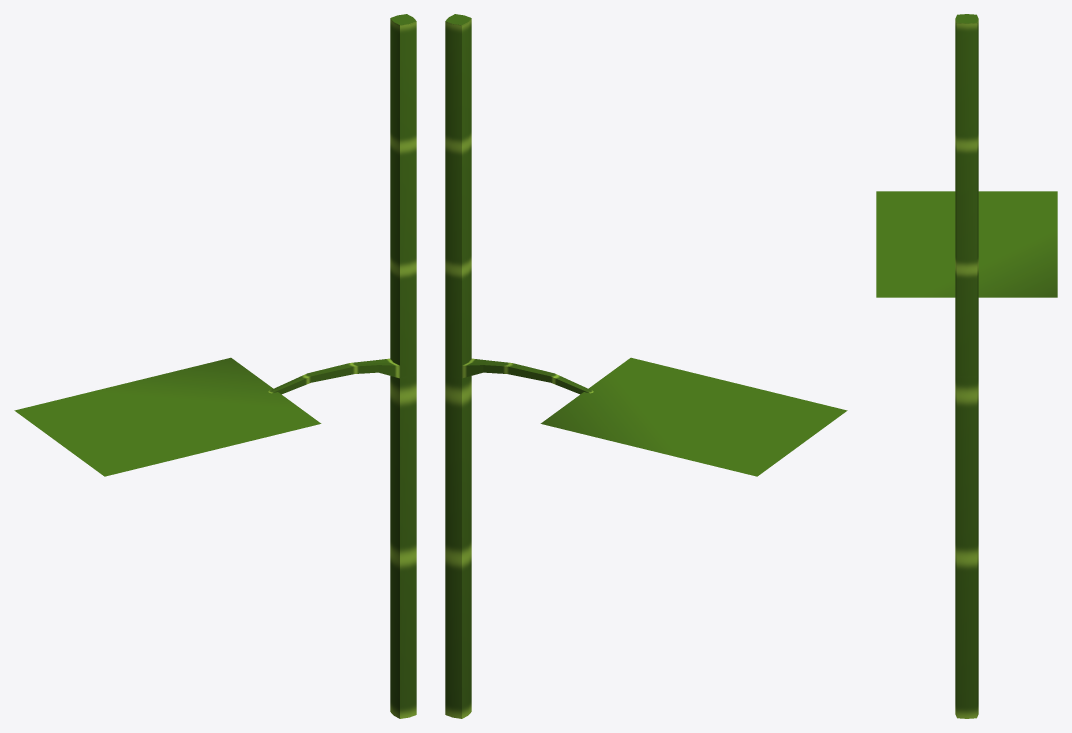
3 views of the same model, side by side, from view 1: azimuth 30°, elevation 25°; view 2: azimuth 150°, elevation 25°; view 3: azimuth 270°, elevation 25° (orthographic).
Parts seen in each view (by area): view 1: Bamboo2, BambooLeaves; view 2: Bamboo2, BambooLeaves; view 3: BambooLeaves, Bamboo2.
Boxes of the visible parts, x1,y1,x2,y2 form: Bamboo2: (268,14,416,718); BambooLeaves: (14,357,321,476); Bamboo2: (445,14,593,718); BambooLeaves: (540,357,847,476); BambooLeaves: (876,191,1057,297); Bamboo2: (955,14,978,718).
Size of the model in its own units: 41.38 by 77.54 by 18.32.
Materials: 2 (2 with a texture image).
